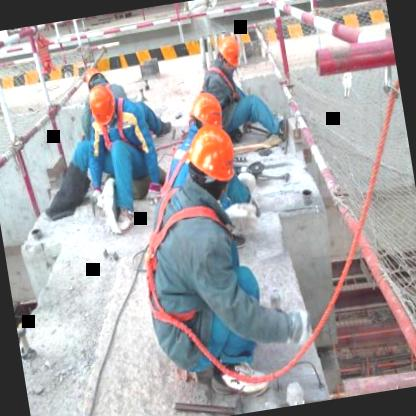helmet: (180, 114, 244, 198), (180, 82, 226, 140), (84, 76, 119, 129), (209, 31, 248, 75), (76, 56, 112, 92)
